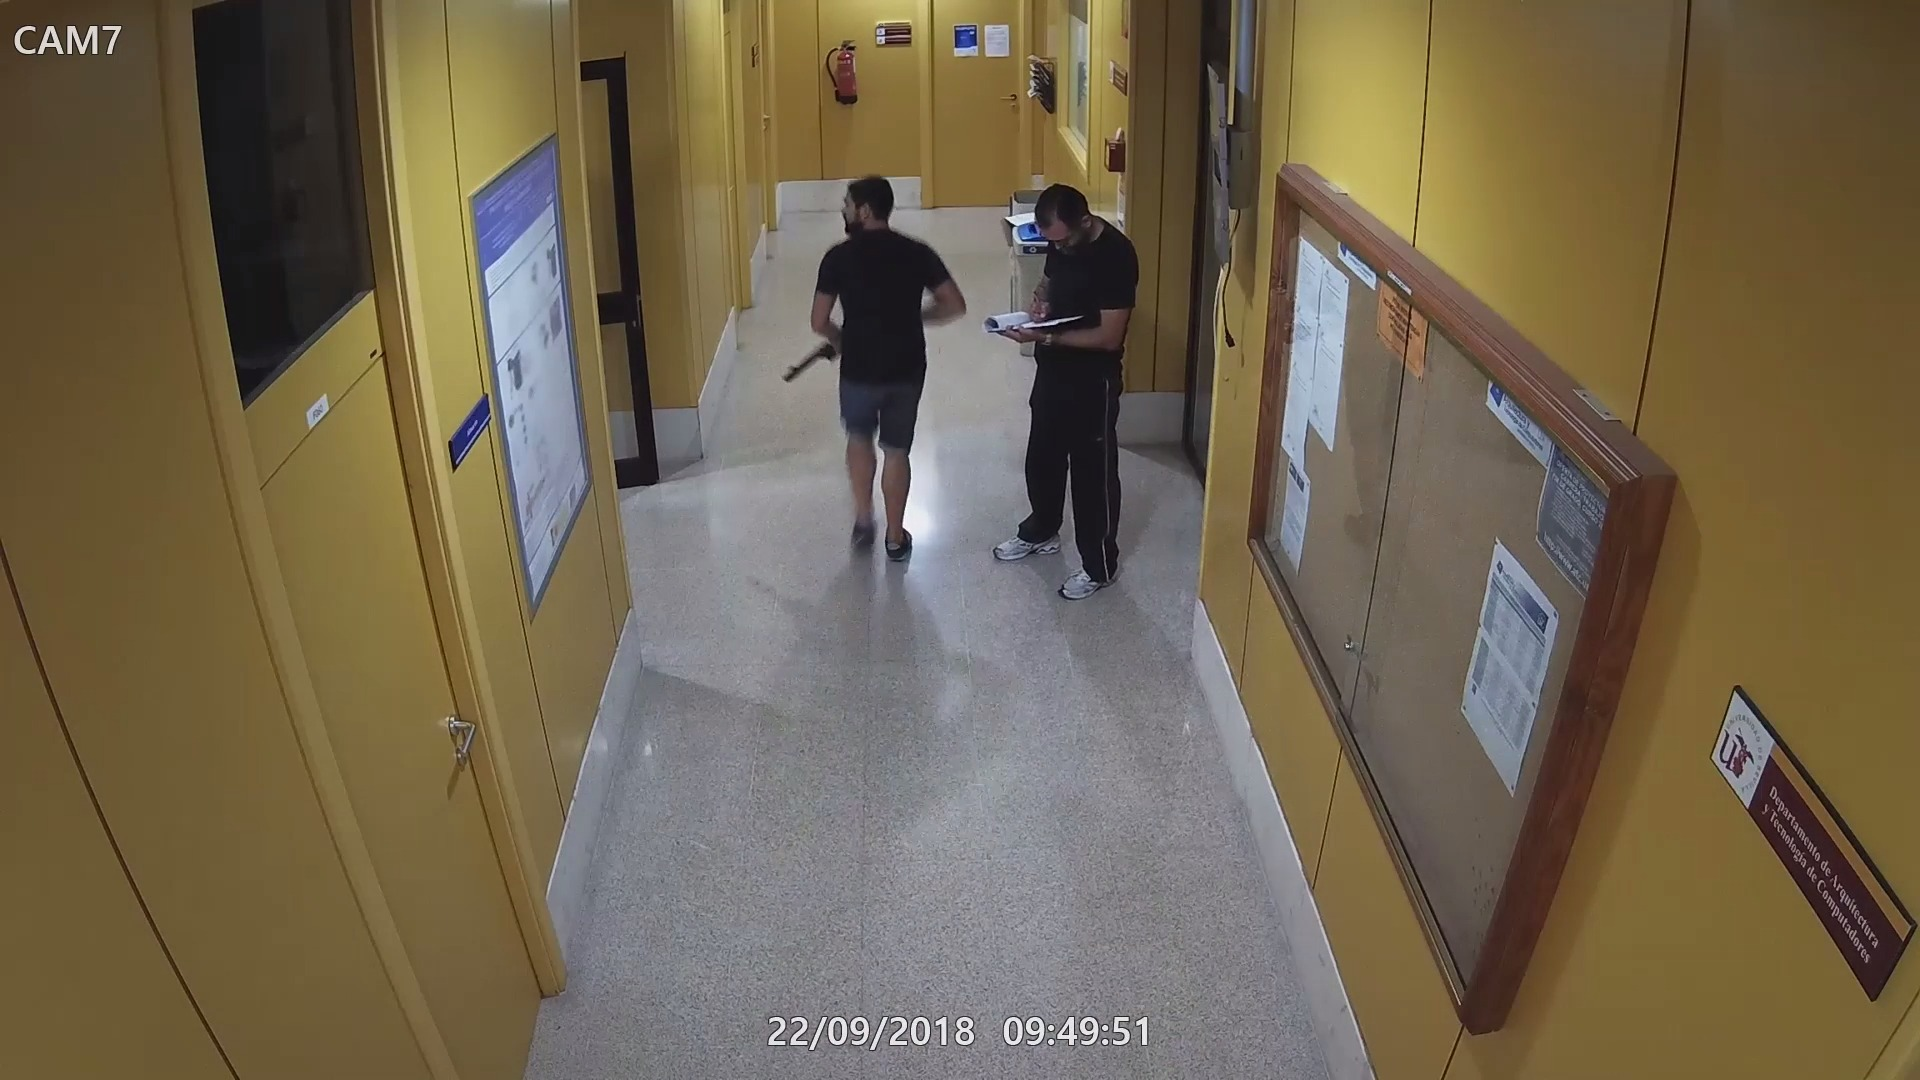Short_rifle: (778, 320, 848, 380)
